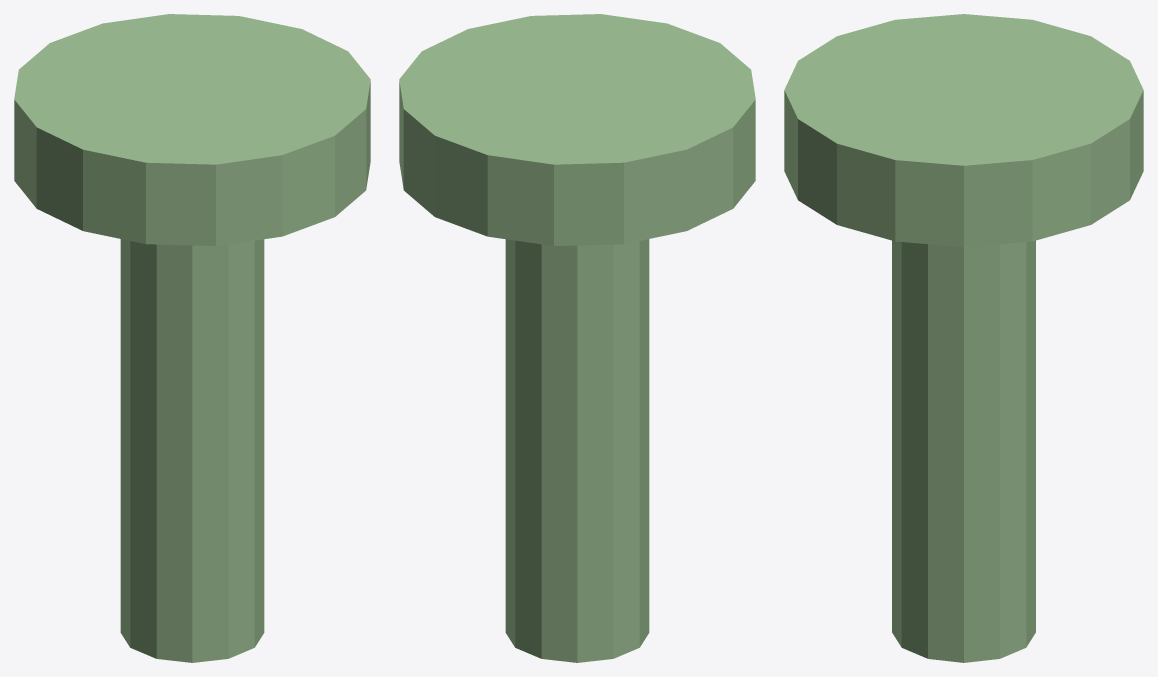
Rendered from zone-4.glb.
3 views of the same model, side by side, from view 1: azimuth 30°, elevation 25°; view 2: azimuth 150°, elevation 25°; view 3: azimuth 270°, elevation 25° (orthographic).
Visible parts, largest first — view 1: zone-4; view 2: zone-4; view 3: zone-4.
Boxes of the visible parts, x1=… form: zone-4: x1=14, y1=14, x2=370, y2=662; zone-4: x1=399, y1=14, x2=755, y2=662; zone-4: x1=784, y1=14, x2=1143, y2=662.
Size of the model in its own units: 0.6 by 1 by 0.6.
